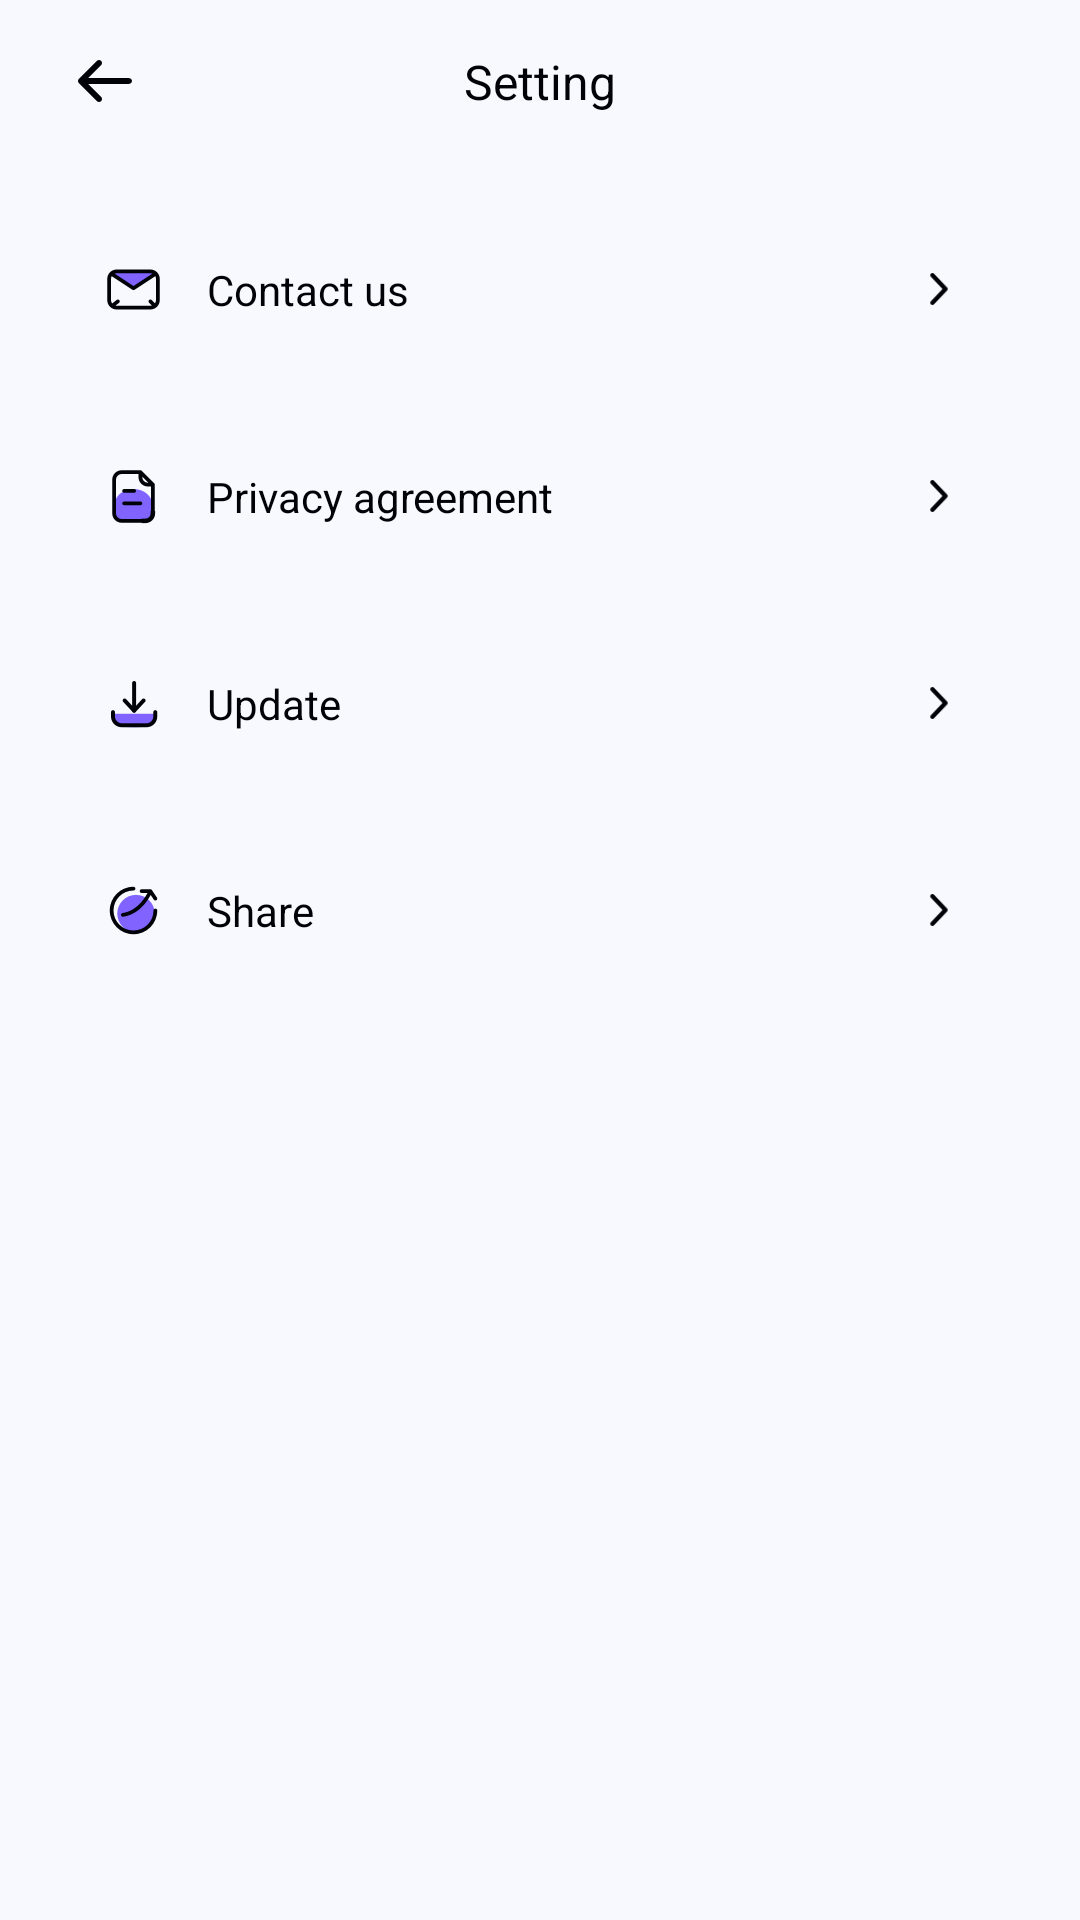

Icons on this 1080×1920 Android screen, each with the point to tap as (x=x, y=y):
back: (x=105, y=81)
right: (x=939, y=289), (x=939, y=496), (x=939, y=703), (x=939, y=910)
set contact: (x=133, y=289)
set privacy: (x=134, y=497)
